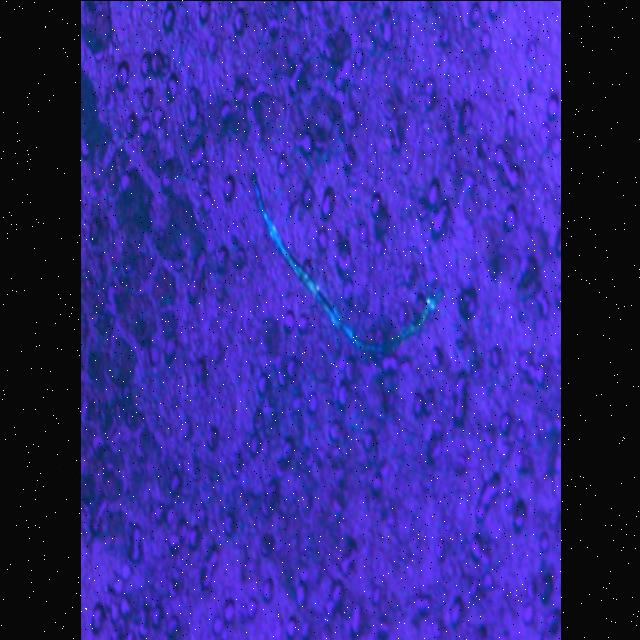Fibre: (244, 150, 448, 376)
